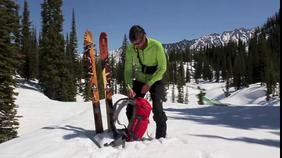sit: (125, 27, 164, 108)
stay: (195, 88, 206, 102)
